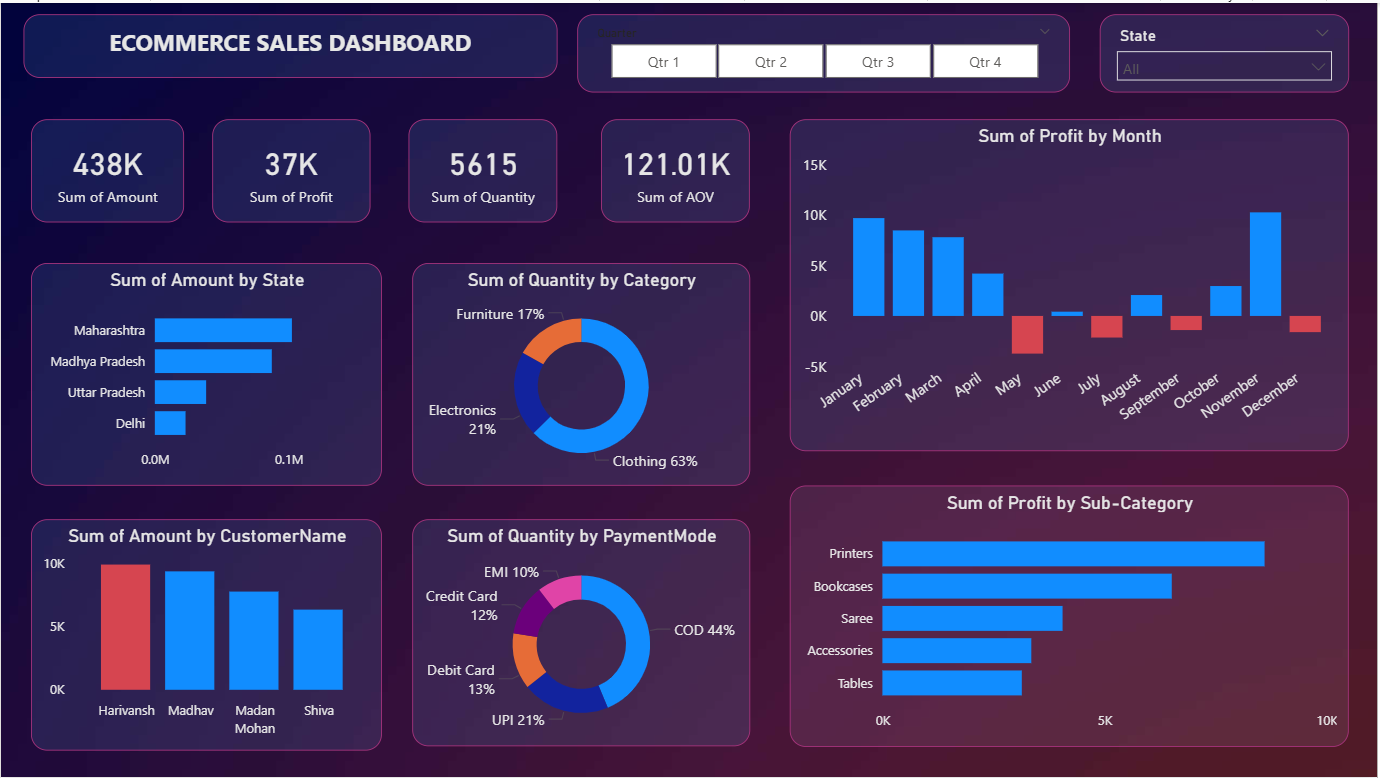

What the dashboard file says about the page in this screenshot:
{"tool":"powerbi","page":{"name":"Page 1","canvas":[1280,720],"ordinal":0},"visuals":[{"type":"textbox","box":[20.6,11,496.7,59],"z":0},{"type":"columnChart","fields":{"Category":["Orders.Order Date.Variation.Date Hierarchy.Month"],"Y":["Sum(Details.Profit)"]},"box":[734.1,108.4,520.1,308.7],"z":1000},{"type":"barChart","fields":{"Y":["Sum(Details.Profit)"],"Category":["Details.Sub-Category"]},"box":[734.1,448.7,520.1,242.9],"z":2000},{"type":"donutChart","fields":{"Category":["Details.PaymentMode"],"Y":["Sum(Details.Quantity)"]},"box":[382.8,480.3,314.2,211.3],"z":3000},{"type":"card","fields":{"Values":["Sum(Details.Amount)"]},"box":[27.4,108.4,142.7,96.1],"z":4000},{"type":"card","fields":{"Values":["Sum(Details.Profit)"]},"box":[196.2,108.4,146.8,96.1],"z":5000},{"type":"card","fields":{"Values":["Sum(Details.Quantity)"]},"box":[378.7,108.4,138.6,96.1],"z":6000},{"type":"card","fields":{"Values":["Sum(Details.AOV)"]},"box":[558.5,108.4,138.6,96.1],"z":7000},{"type":"barChart","fields":{"Y":["Sum(Details.Amount)"],"Category":["Orders.State"]},"box":[27.4,241.5,326.6,207.2],"z":8000},{"type":"columnChart","fields":{"Category":["Orders.CustomerName"],"Y":["Sum(Details.Amount)"]},"box":[27.4,480.3,326.6,215.4],"z":9000},{"type":"slicer","fields":{"Values":["Orders.State"]},"box":[1022.3,11,231.9,72.7],"z":10000},{"type":"slicer","fields":{"Values":["Orders.Order Date.Variation.Date Hierarchy.Quarter"]},"box":[536.5,11,458.3,72.7],"z":11000},{"type":"donutChart","fields":{"Y":["Sum(Details.Quantity)"],"Category":["Details.Category"]},"box":[382.8,241.5,314.2,207.2],"z":12000}]}

Visuals, with their boxes in screenshot pixels (x1, y1, x2, y2), scaled from the page's 1280x720 canvas onto the 1380x778 screenshot:
textbox: locate(22, 12, 558, 76)
columnChart - Orders.Order Date.Variation.Date Hierarchy.Month x Sum(Details.Profit): locate(791, 117, 1352, 451)
barChart - Sum(Details.Profit) x Details.Sub-Category: locate(791, 485, 1352, 747)
donutChart - Details.PaymentMode x Sum(Details.Quantity): locate(413, 519, 751, 747)
card - Sum(Details.Amount): locate(30, 117, 183, 221)
card - Sum(Details.Profit): locate(212, 117, 370, 221)
card - Sum(Details.Quantity): locate(408, 117, 558, 221)
card - Sum(Details.AOV): locate(602, 117, 752, 221)
barChart - Sum(Details.Amount) x Orders.State: locate(30, 261, 382, 485)
columnChart - Orders.CustomerName x Sum(Details.Amount): locate(30, 519, 382, 752)
slicer - Orders.State: locate(1102, 12, 1352, 90)
slicer - Orders.Order Date.Variation.Date Hierarchy.Quarter: locate(578, 12, 1073, 90)
donutChart - Sum(Details.Quantity) x Details.Category: locate(413, 261, 751, 485)
